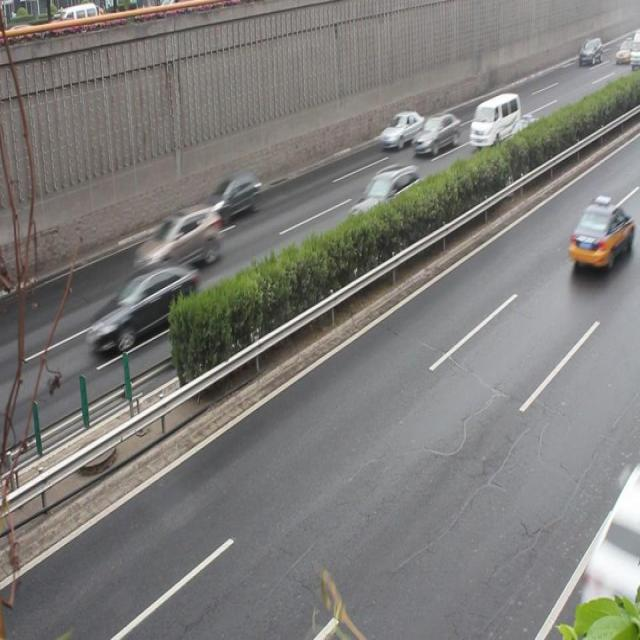car: (87, 260, 197, 354), (134, 201, 219, 274), (346, 161, 419, 231), (568, 198, 630, 273), (203, 173, 259, 223), (412, 112, 459, 159), (498, 118, 542, 162), (378, 111, 423, 152)
truck: (468, 92, 519, 147)
